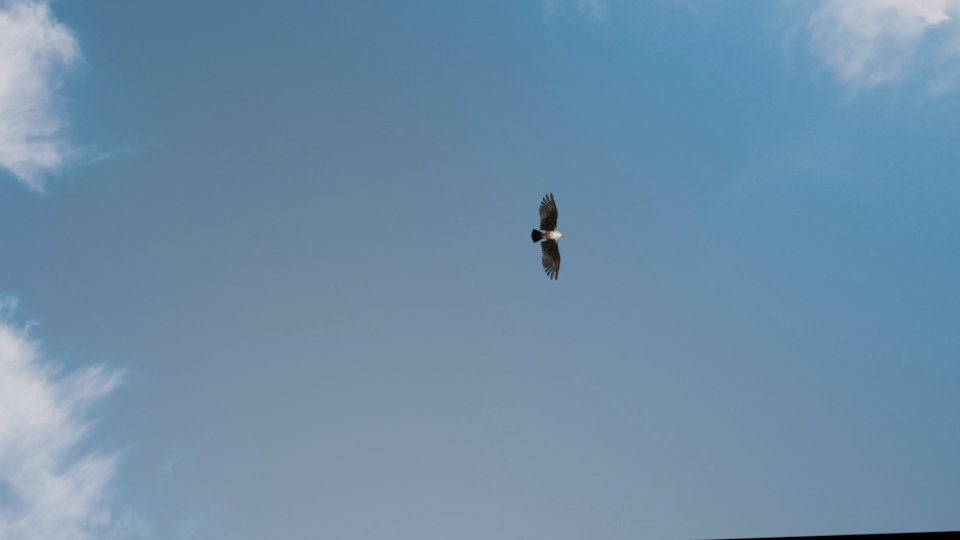bird: (531, 190, 567, 282)
